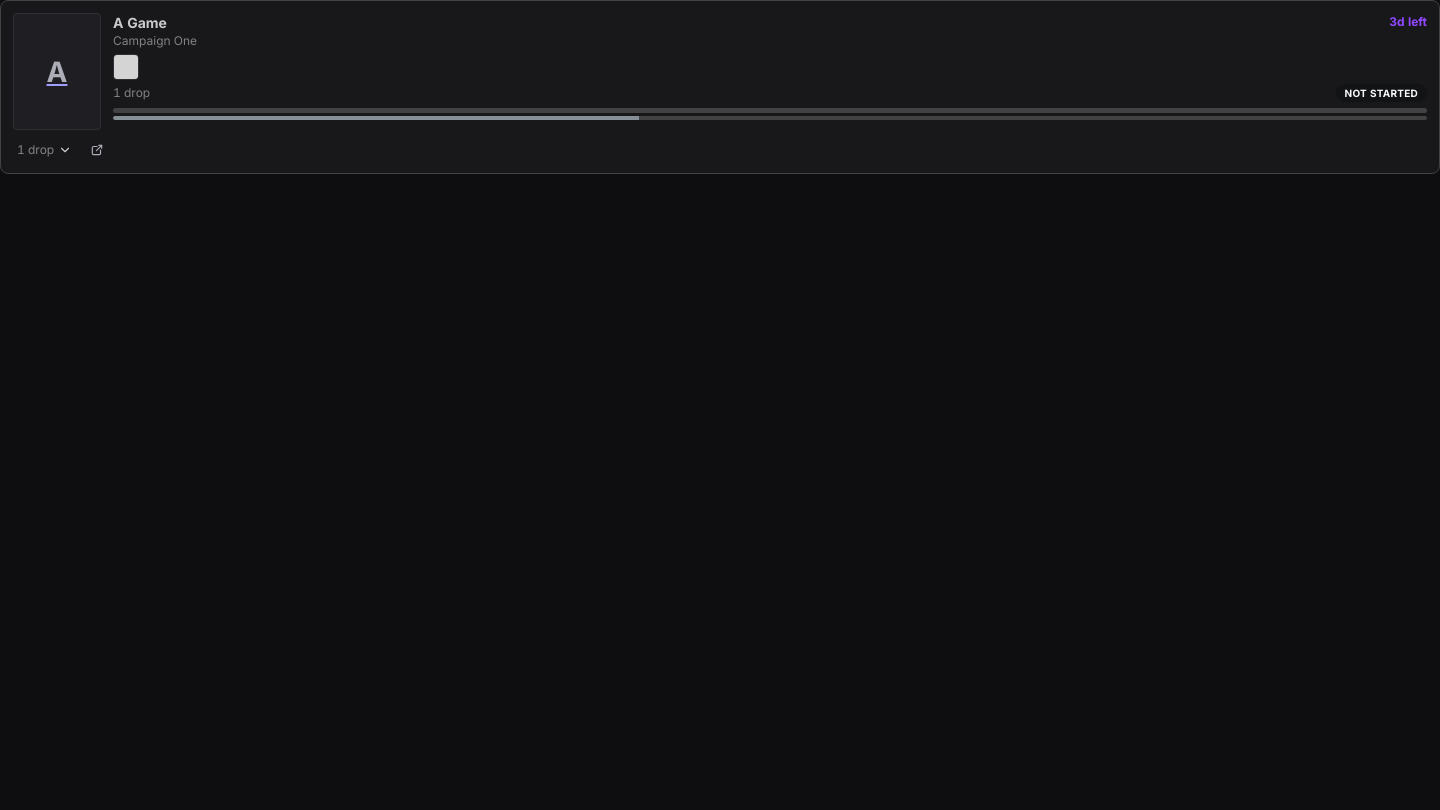
Test: the countdown opens the exact dates on click
Click the button with test id "campaign-ends" at {"x": 1408, "y": 22}, box [1389,13,1427,32]
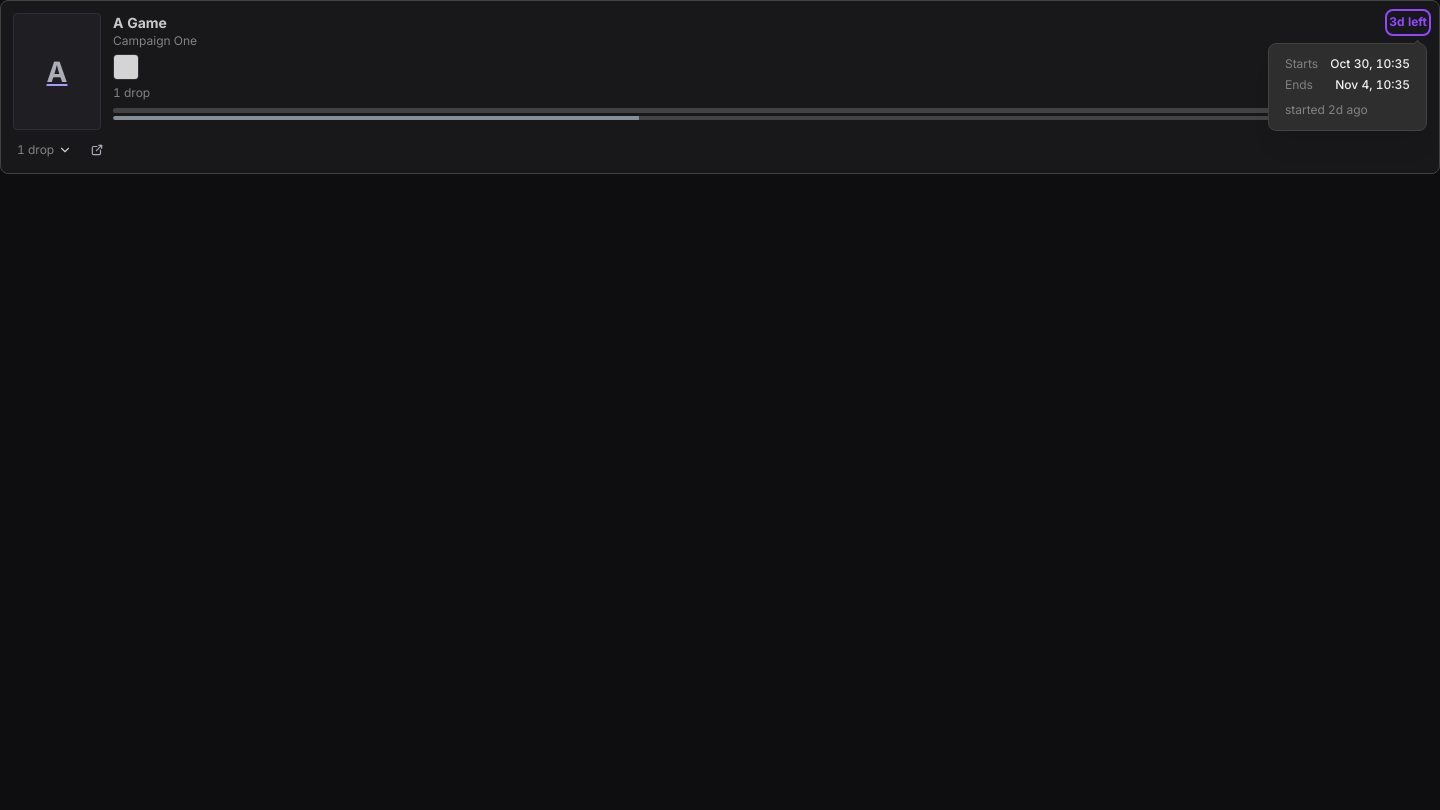
Expected: the dialog with test id "campaign-window" shows "Starts", [1285,56,1318,71]
Expected: the dialog with test id "campaign-window" shows "Ends", [1285,77,1313,92]
Expected: the text with test id "campaign-window-state" reads "started 2d ago", [1285,102,1368,117]
